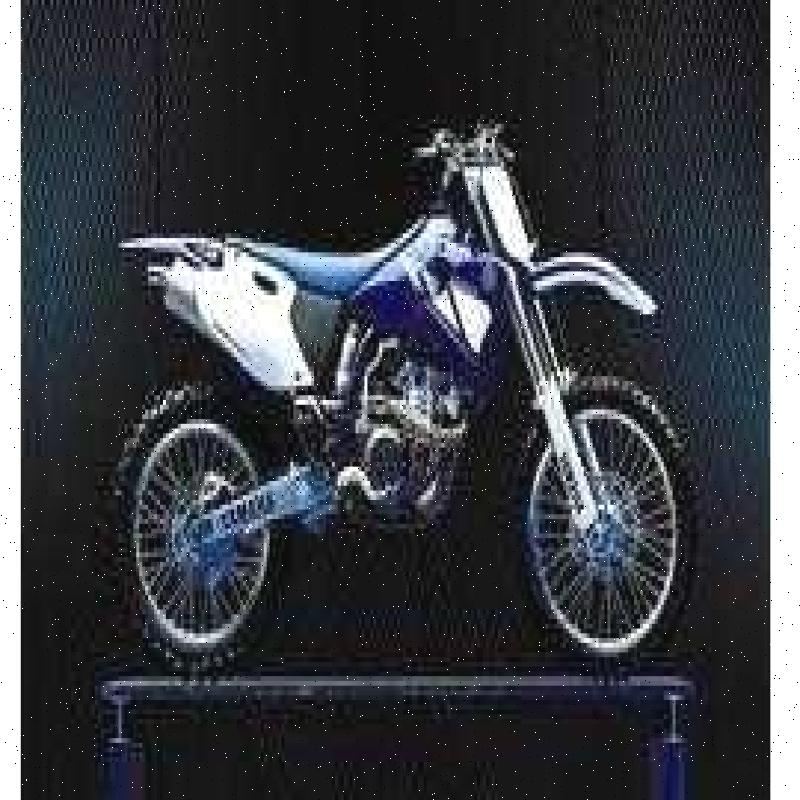bike: (89, 78, 693, 699)
